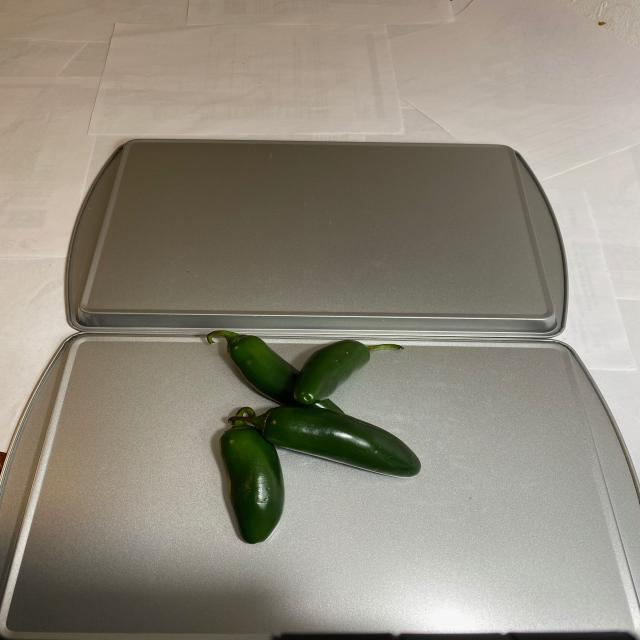chilli: (193, 325, 427, 546)
